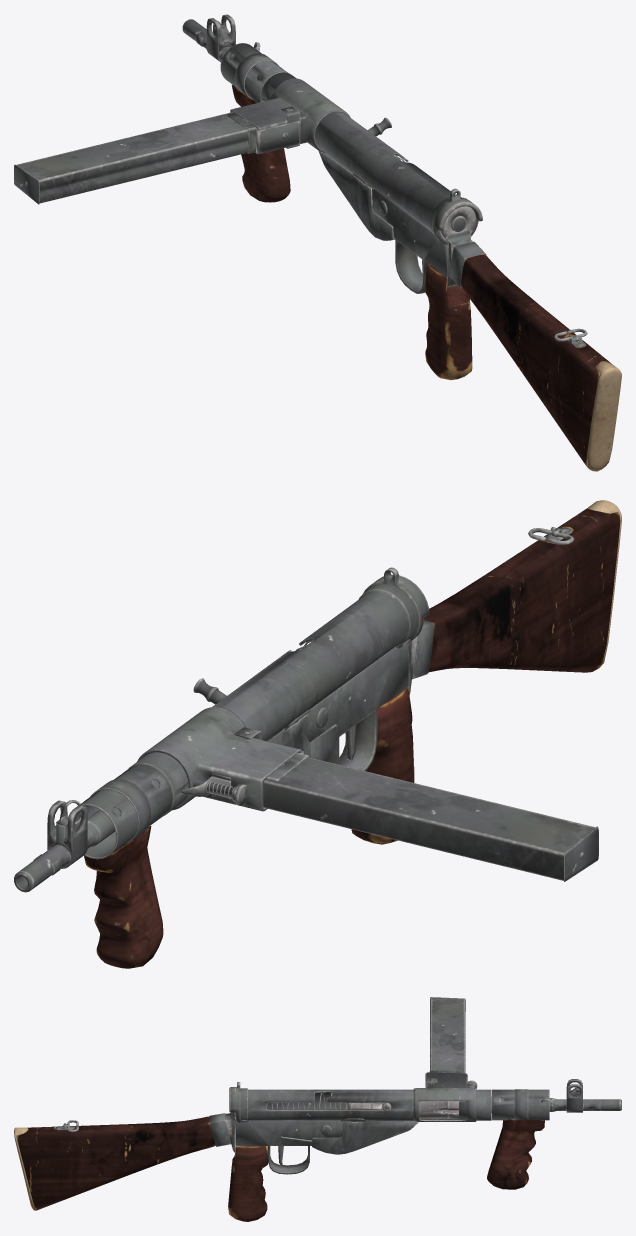
File: sten.glb
The picture shows the model from 3 angles, top to bottom: view 1: azimuth 30°, elevation 25°; view 2: azimuth 150°, elevation 25°; view 3: azimuth 270°, elevation 25°; orthographic projection. The views are drawn at different scales.
Visible parts, largest first — view 1: L Sten; view 2: L Sten; view 3: L Sten.
Part boxes in pixels (<box>): L Sten: <box>14,14,621,471</box>; L Sten: <box>14,500,621,968</box>; L Sten: <box>14,997,621,1221</box>.
Size of the model in its own units: 0.3565 by 0.2014 by 0.8109.
Materials: 1 (1 with a texture image).
